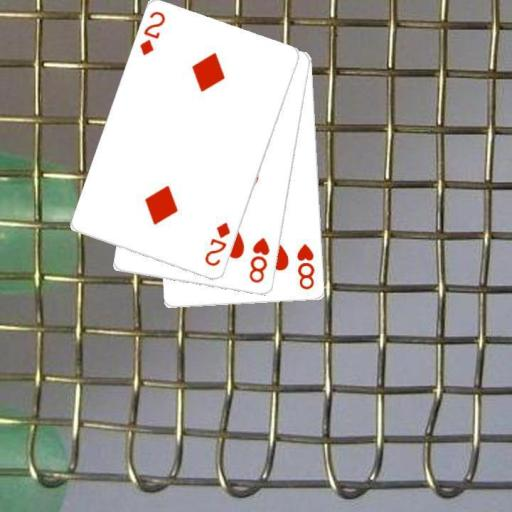card-corner: (201, 219, 232, 268), (137, 8, 167, 58), (246, 235, 272, 285), (294, 240, 317, 292)
